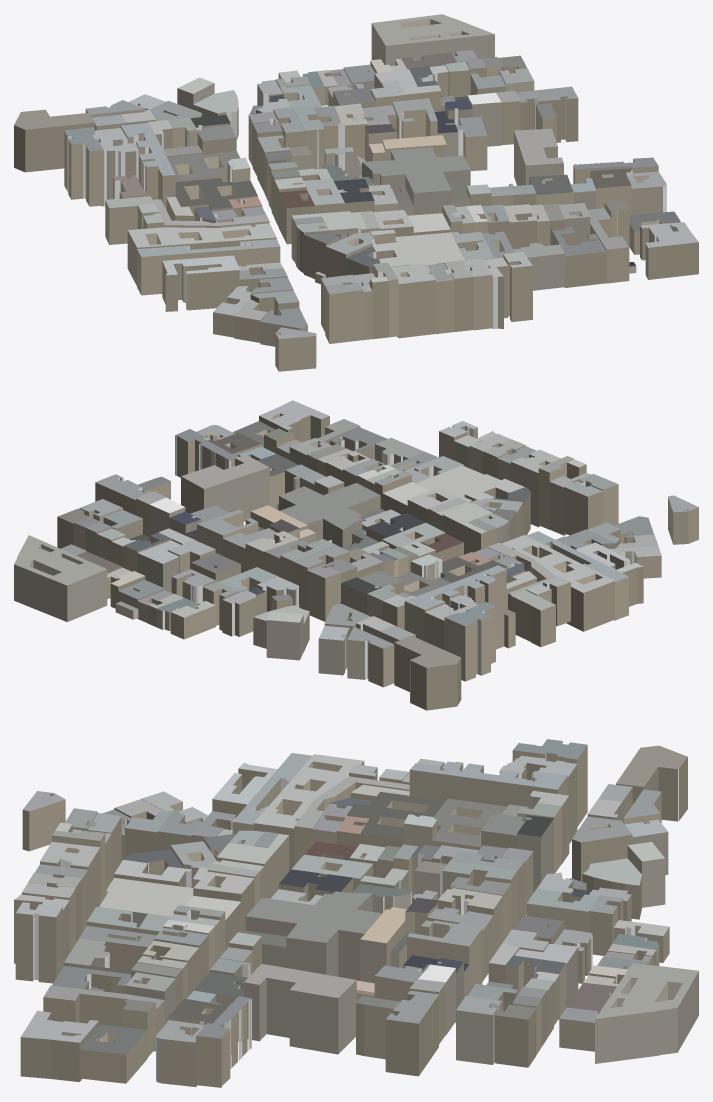
3 views of the same model, one above another, from view 1: azimuth 30°, elevation 25°; view 2: azimuth 150°, elevation 25°; view 3: azimuth 270°, elevation 25° (orthographic). The views are drawn at different scales.
Parts seen in each view (by area): view 1: tuile; view 2: tuile; view 3: tuile.
Boxes of the visible parts, <box> form: tuile: <box>14,14,698,371</box>; tuile: <box>14,400,698,710</box>; tuile: <box>14,739,698,1087</box>.
Bounding box in the file's own units: 280 × 43.13 × 280.
